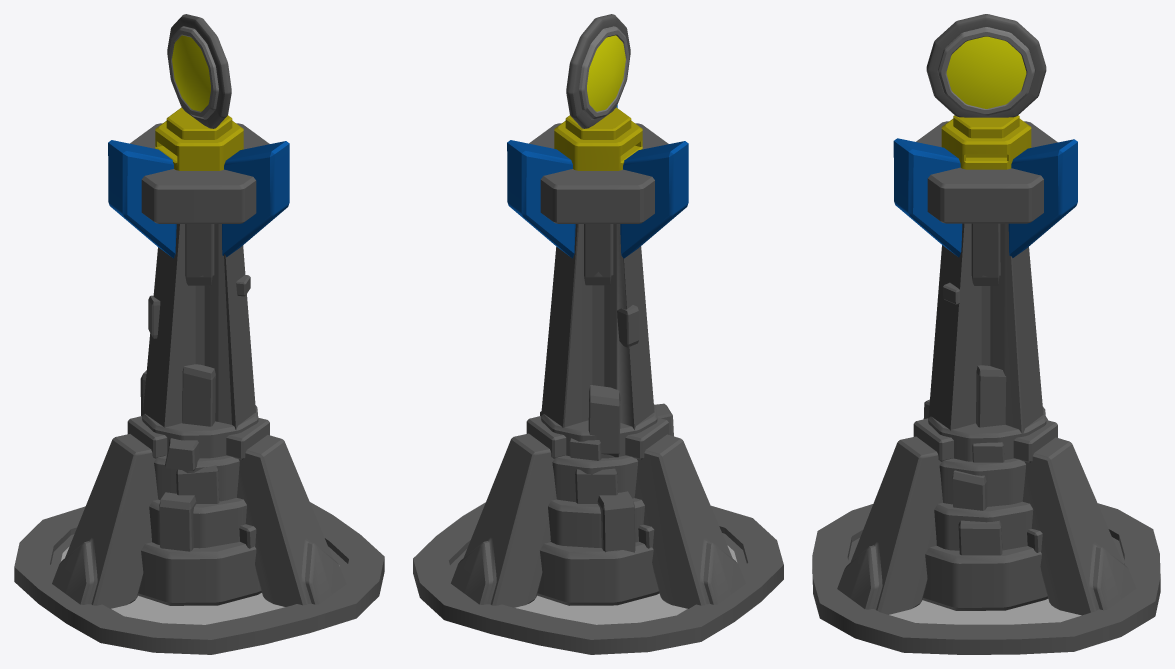
Rendered from Inferno Tower.fbx.
3 views of the same model, side by side, from view 1: azimuth 30°, elevation 25°; view 2: azimuth 150°, elevation 25°; view 3: azimuth 270°, elevation 25° (orthographic).
Visible parts, largest first — view 1: pCylinder2, pCylinder14, pCube7, pCylinder1, pCylinder10, pCube11, pCube33, pCylinder11, pCylinder6, pCylinder13, pTorus1, pCylinder8 (+11 smaller); view 2: pCylinder2, pCylinder14, pCube7, pCylinder10, pCylinder1, pCube11, pCube34, pCylinder11, pCylinder6, pCylinder7, pCylinder13, pTorus1 (+12 smaller); view 3: pCylinder2, pCylinder14, pCube7, pCylinder10, pCylinder1, pCylinder13, pCube34, pCube33, pTorus1, pCylinder6, pCylinder11, pCylinder7 (+11 smaller).
Boxes of the visible parts, box(x1,y1,x2,y2) form: pCylinder2: box(52, 434, 346, 608); pCylinder14: box(14, 502, 384, 654); pCube7: box(142, 224, 255, 430); pCylinder1: box(138, 542, 261, 605); pCylinder10: box(130, 123, 269, 223); pCube11: box(108, 140, 176, 258); pCube33: box(222, 141, 289, 257); pCylinder11: box(155, 121, 243, 170); pCylinder6: box(149, 498, 246, 548); pCylinder13: box(172, 35, 210, 111); pTorus1: box(167, 14, 231, 128); pCylinder8: box(142, 405, 258, 458); pCylinder2: box(451, 433, 745, 608); pCylinder14: box(413, 502, 783, 654); pCube7: box(541, 224, 654, 429); pCylinder10: box(529, 123, 668, 223); pCylinder1: box(537, 541, 659, 605); pCube11: box(620, 141, 688, 258); pCube34: box(507, 140, 575, 258); pCylinder11: box(554, 121, 642, 170); pCylinder6: box(548, 498, 644, 547); pCylinder7: box(552, 455, 638, 502); pCylinder13: box(587, 35, 625, 111); pTorus1: box(566, 14, 630, 128); pCylinder2: box(837, 436, 1136, 615); pCylinder14: box(812, 503, 1160, 654); pCube7: box(928, 223, 1043, 433); pCylinder10: box(916, 121, 1057, 223); pCylinder1: box(922, 545, 1048, 610); pCylinder13: box(946, 36, 1026, 108); pCube34: box(1008, 139, 1077, 257); pCube33: box(893, 138, 962, 257); pTorus1: box(926, 14, 1046, 117); pCylinder6: box(934, 501, 1033, 550); pCylinder11: box(941, 119, 1031, 169); pCylinder7: box(939, 458, 1025, 506).
Bounding box in the file's own units: 414 × 743 × 414.
